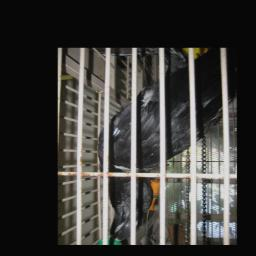Crow: (98, 48, 236, 241)
